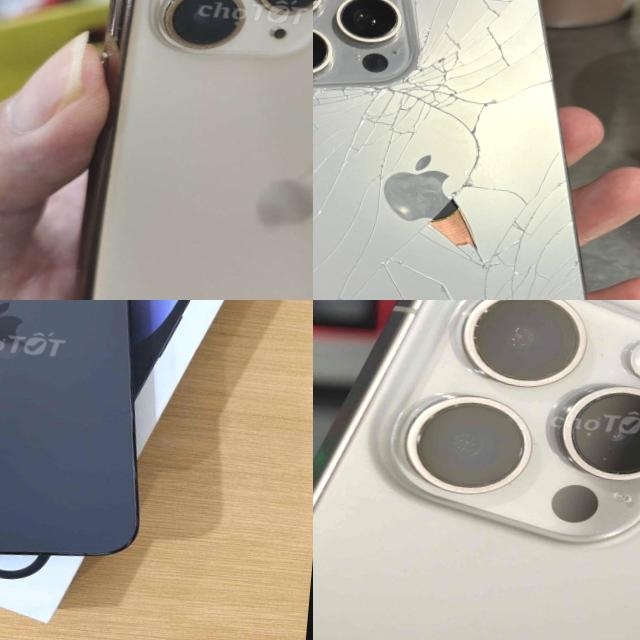gen_11: (59, 0, 313, 300)
gen_12_13: (313, 0, 636, 300)
gen_14: (0, 300, 179, 572)
gen_15: (313, 300, 640, 640)
